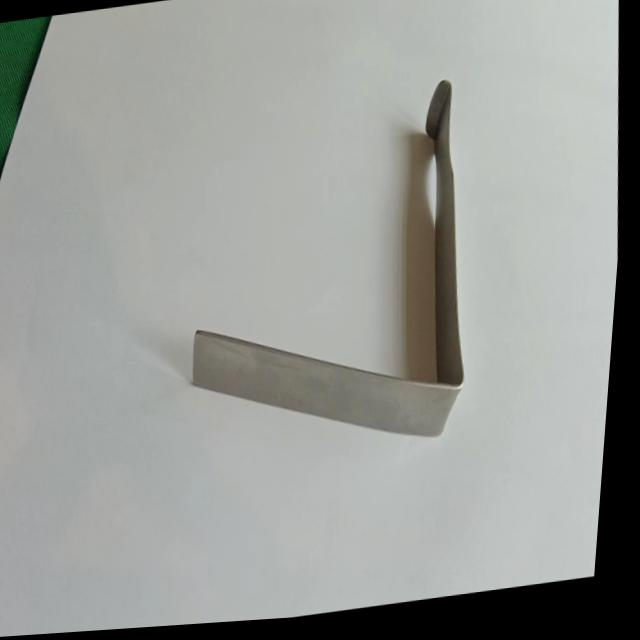AustinRetractor: (168, 66, 498, 489)
